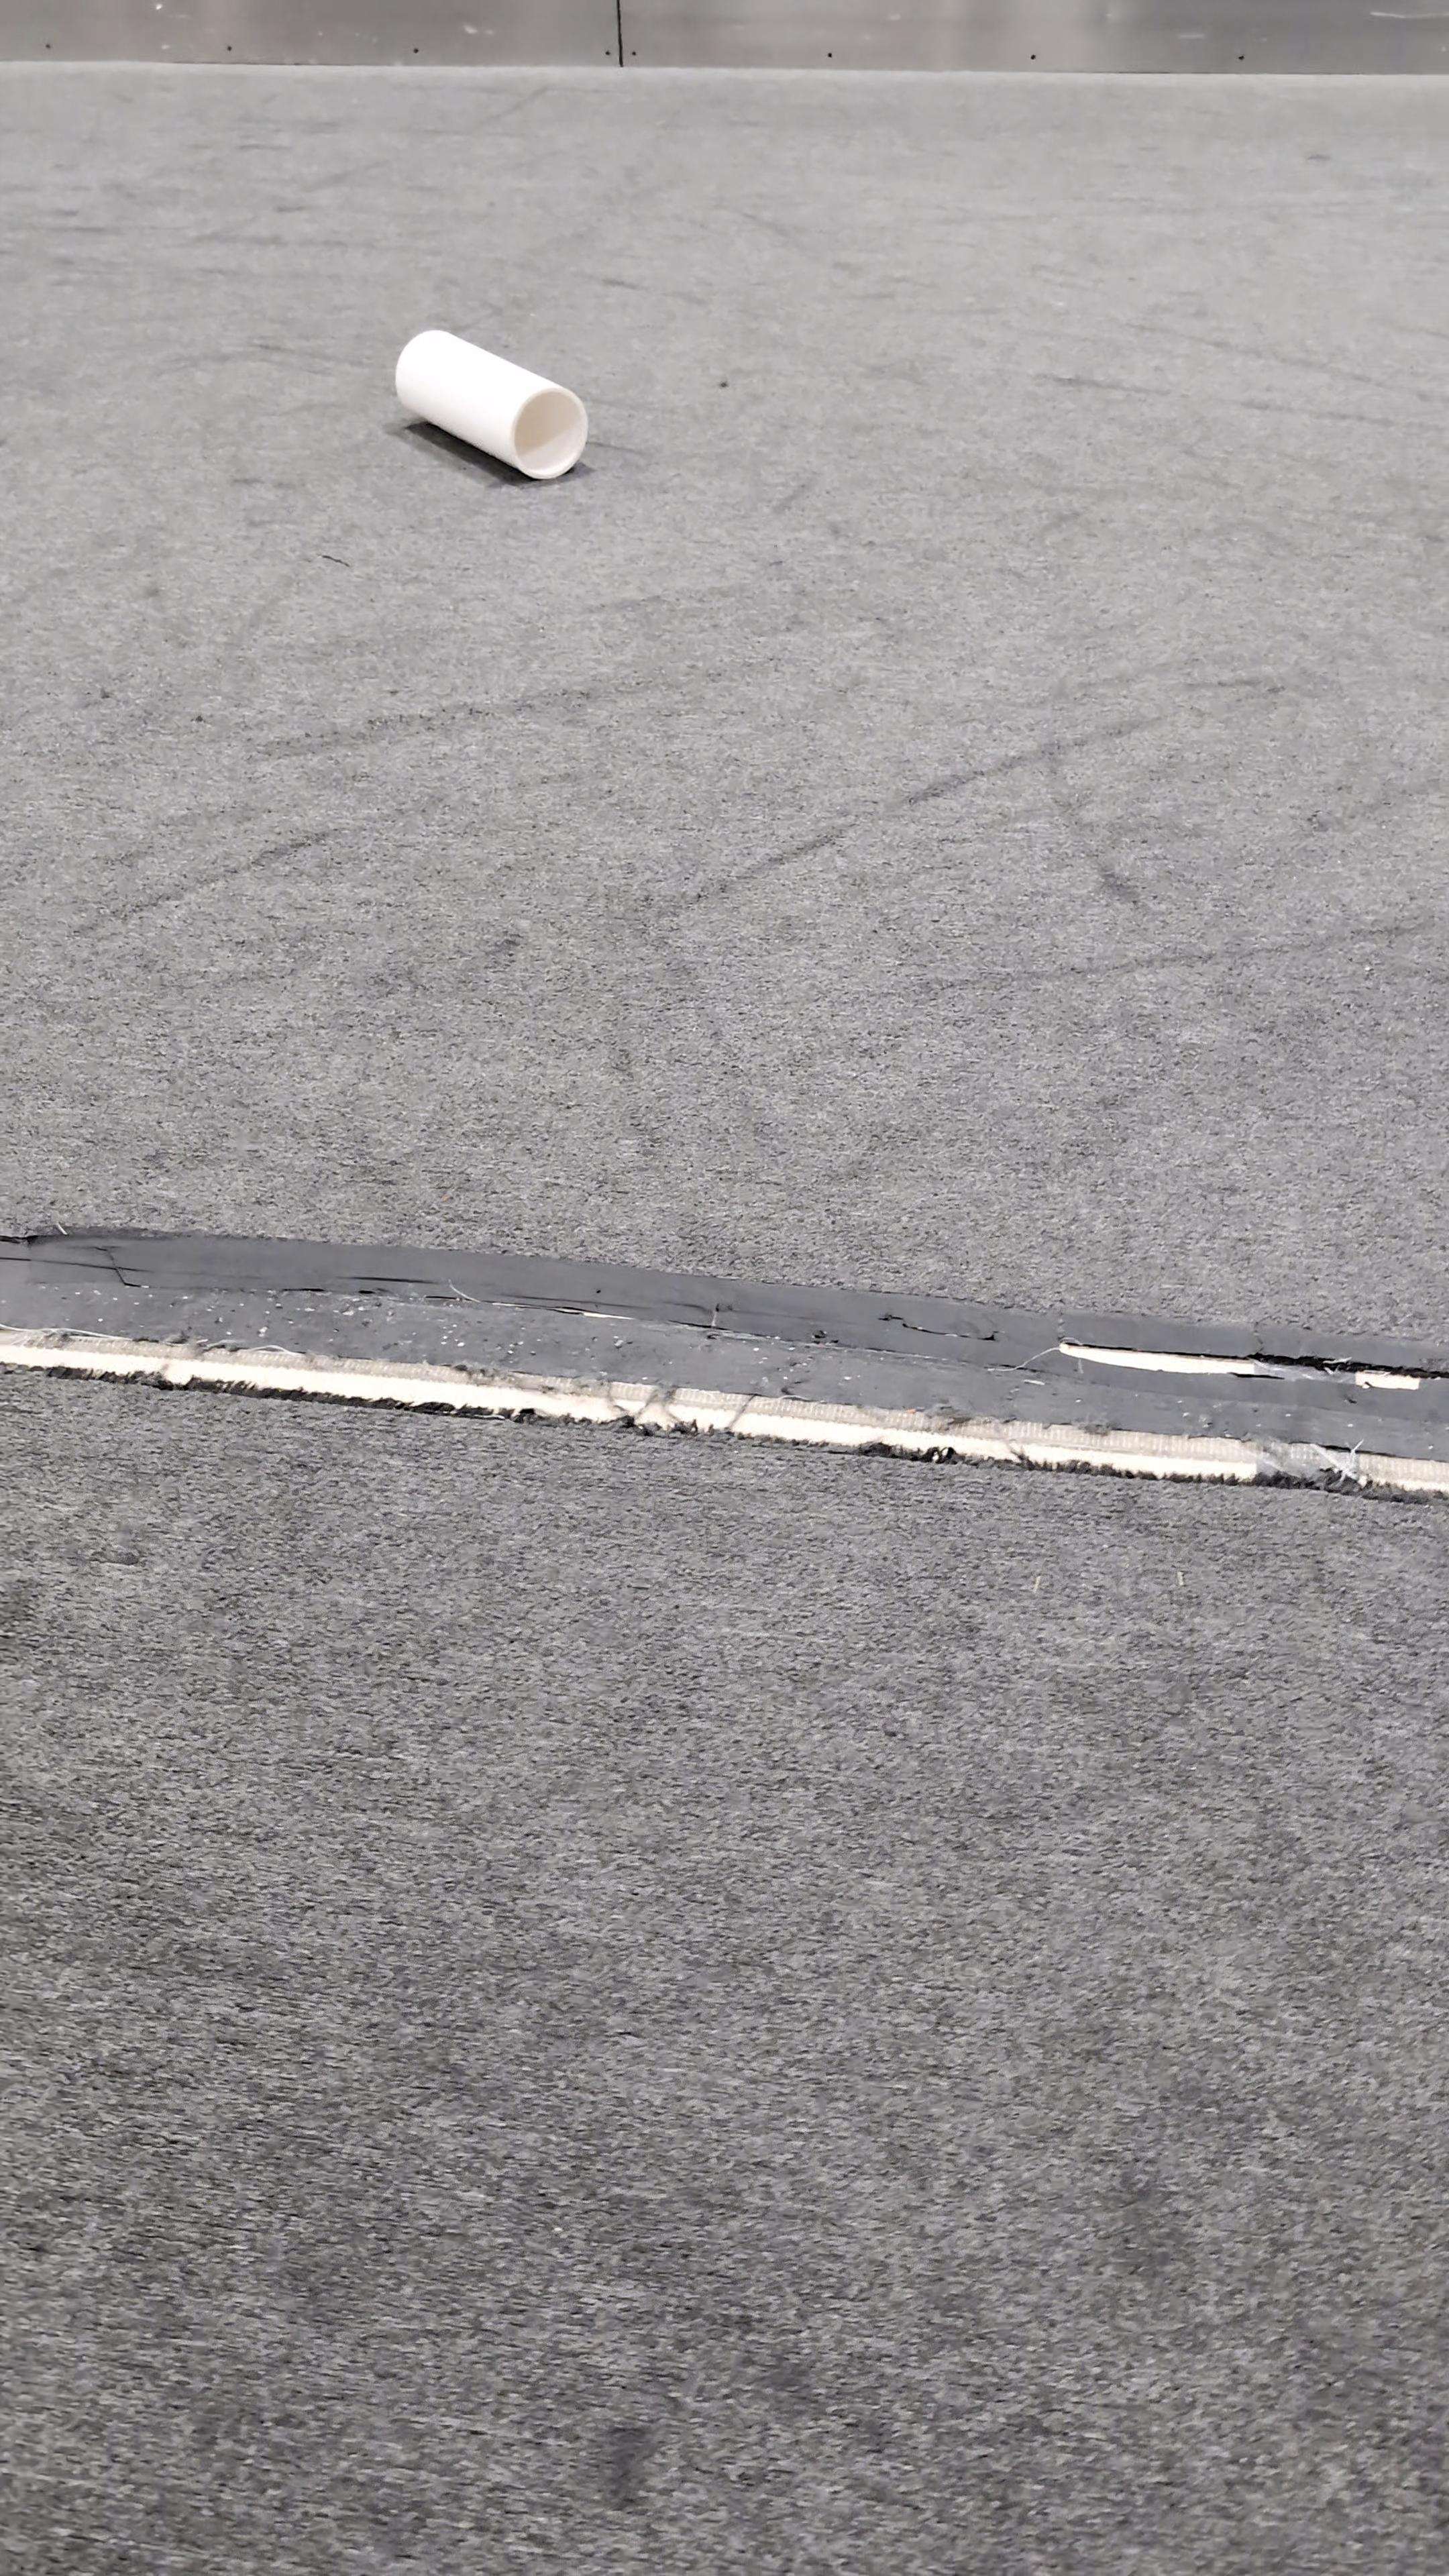coral: (389, 324, 589, 479)
